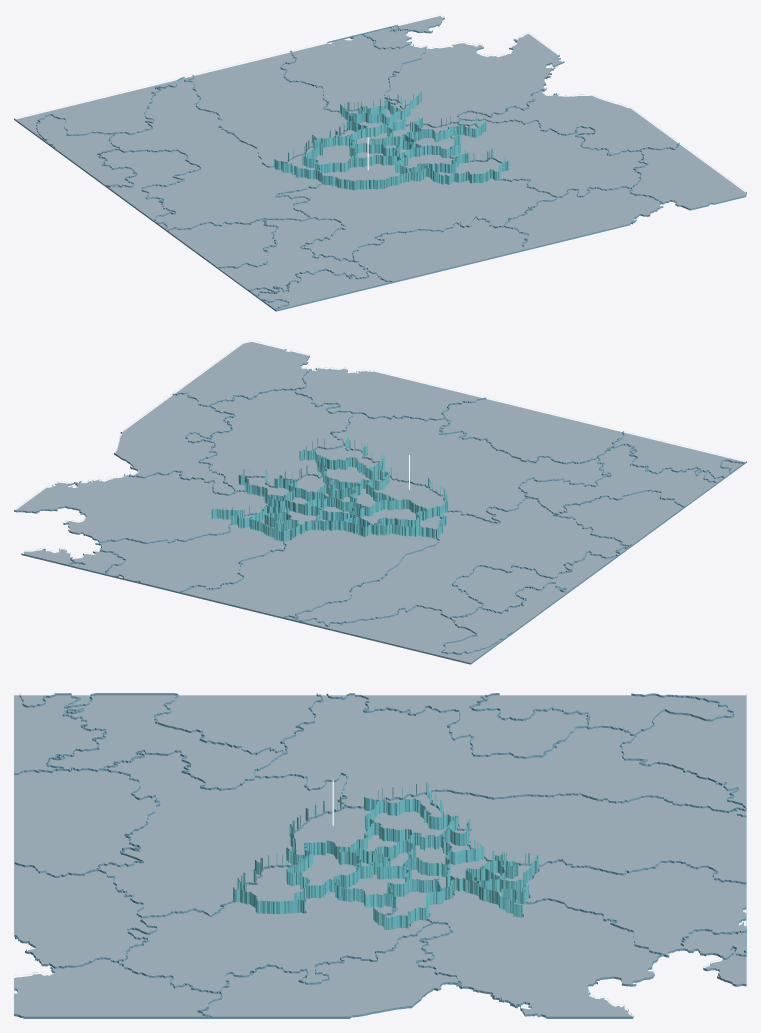
Rendered from map4.gltf.
3 renders of one model, top to bottom at view 1: azimuth 30°, elevation 25°; view 2: azimuth 150°, elevation 25°; view 3: azimuth 270°, elevation 25°, orthographic. The views are drawn at different scales.
Parts seen in each view (by area): view 1: 底 (×2), 底边界, 河南边界; view 2: 底 (×2), 底边界, 河南边界; view 3: 底 (×2), 底边界, 河南边界.
Part boxes in pixels (x1,y1,x2,y2): 底 (×2): [16, 16, 745, 309]; 底边界: [14, 15, 746, 311]; 河南边界: [274, 90, 509, 190]; 底 (×2): [16, 342, 744, 662]; 底边界: [14, 341, 746, 664]; 河南边界: [211, 436, 448, 542]; 底 (×2): [14, 695, 746, 1016]; 底边界: [14, 693, 746, 1018]; 河南边界: [233, 782, 538, 929].
Bounding box in the file's own units: 55.31 × 4.54 × 52.95.
